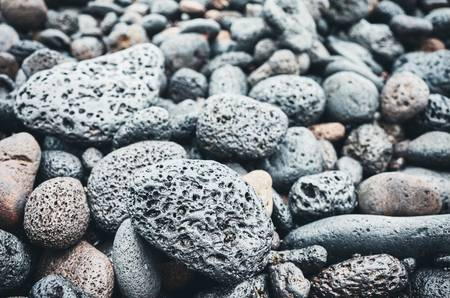volcanic_rock: (119, 154, 276, 283), (13, 34, 172, 142), (82, 145, 189, 223), (25, 170, 95, 245), (307, 252, 413, 298), (196, 100, 291, 150), (242, 71, 327, 118), (45, 242, 114, 292), (287, 167, 357, 215), (377, 64, 432, 125)
